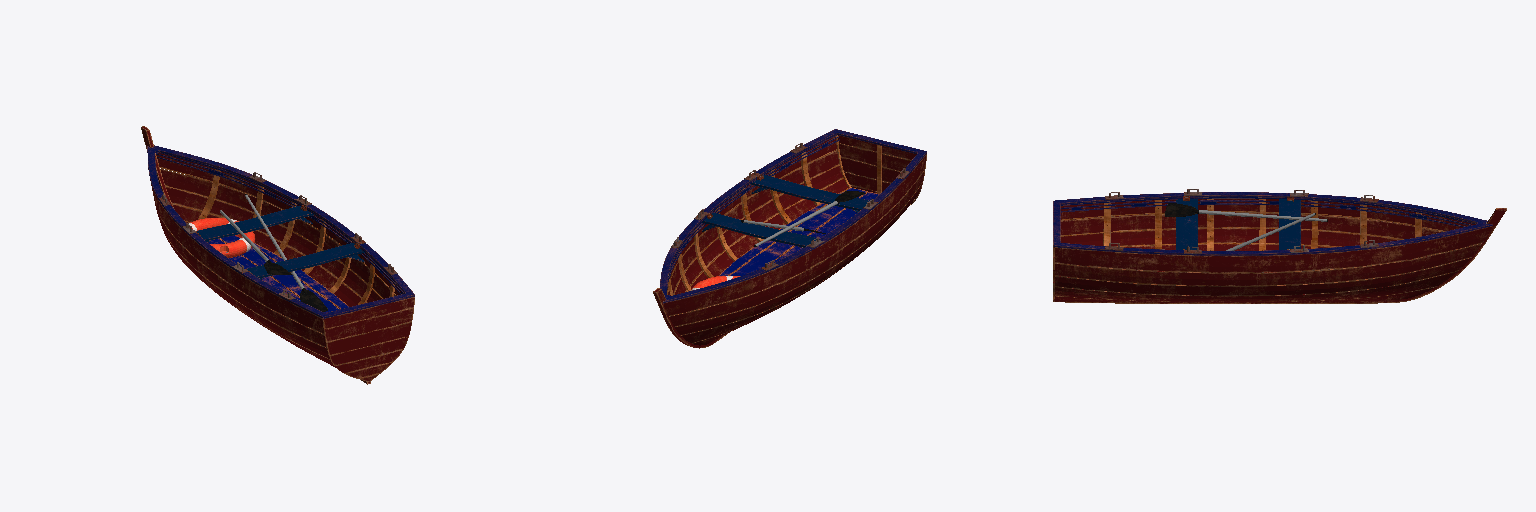
The picture shows the model from 3 angles: view 1: azimuth 30°, elevation 25°; view 2: azimuth 150°, elevation 25°; view 3: azimuth 270°, elevation 25°; orthographic projection.
Parts seen in each view (by area): view 1: Boat, Lifebuoy, paddle1; view 2: Boat; view 3: Boat, paddle2.
Boxes of the visible parts, <box> form: Boat: <box>141,126,414,384</box>; Lifebuoy: <box>189,218,254,257</box>; paddle1: <box>245,194,327,311</box>; Boat: <box>653,129,926,348</box>; Boat: <box>1053,189,1506,303</box>; paddle2: <box>1165,203,1327,221</box>.
Bounding box in the file's own units: 1.69 × 1.19 × 5.22.
Materials: 3 (3 with a texture image).